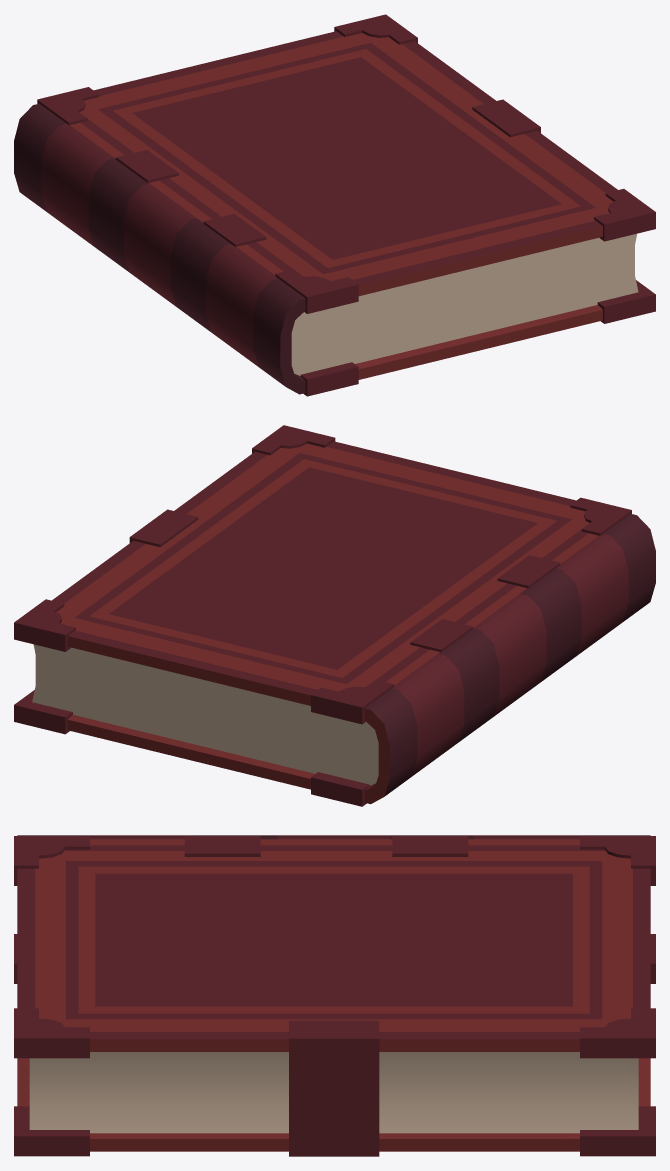
File: Book_03.fbx
3 renders of one model, top to bottom at view 1: azimuth 30°, elevation 25°; view 2: azimuth 150°, elevation 25°; view 3: azimuth 270°, elevation 25°, orthographic. The views are drawn at different scales.
Visible parts, largest first — view 1: Book_03; view 2: Book_03; view 3: Book_03.
Boxes of the visible parts, left/top/right/bottom form: Book_03: left=14, top=14, right=655, bottom=396; Book_03: left=14, top=425, right=655, bottom=806; Book_03: left=14, top=835, right=655, bottom=1156.
Bounding box in the file's own units: 0.2626 × 0.0666 × 0.3277.
